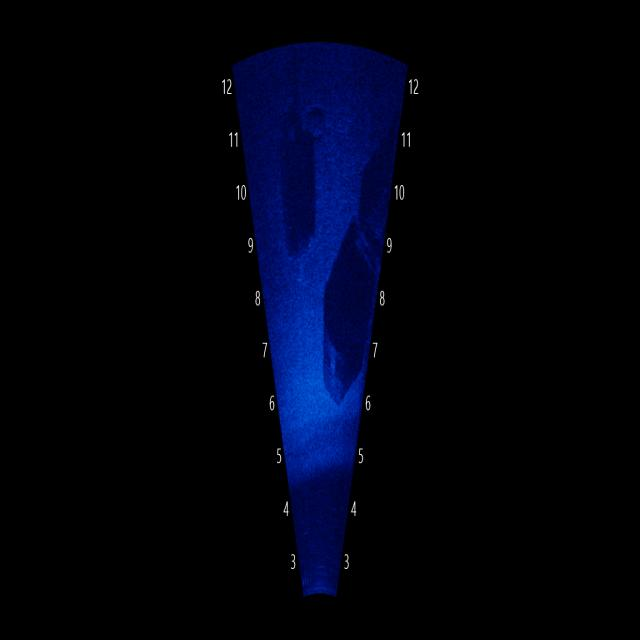square: (311, 197, 368, 428), (280, 90, 323, 281)
